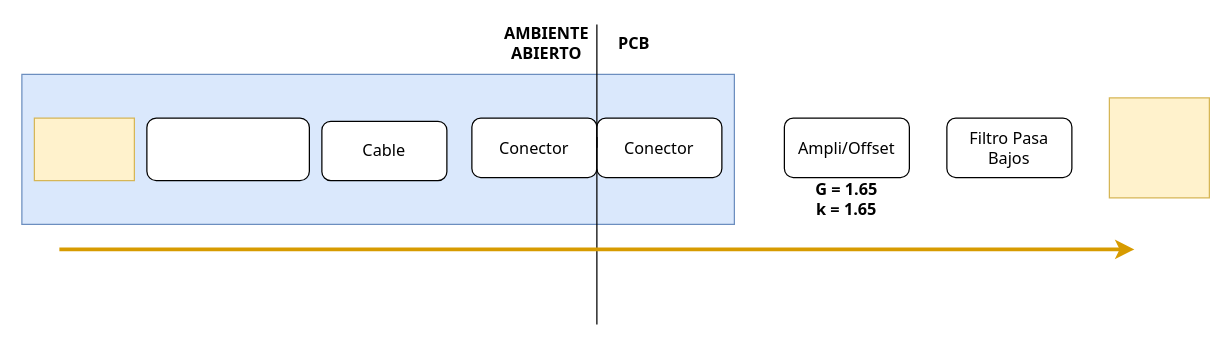
Image size: 1231x348. Some labels were removed from this diagram. The shapes that lost their labels are listed below. From the top down, each one's centre as x and y in pixels, then its label:
At (83,149): "Presion".
At (227,149): "Sensor/Transductor".
At (1158,147): "ACDC".
